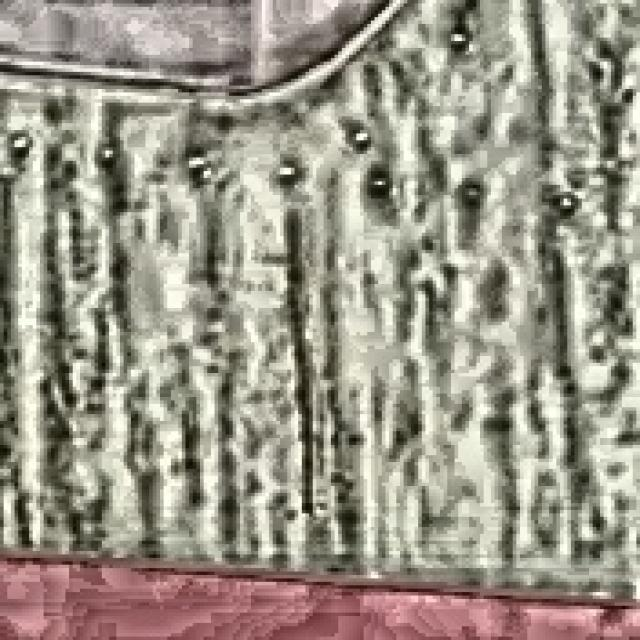crack: (266, 275, 372, 580)
